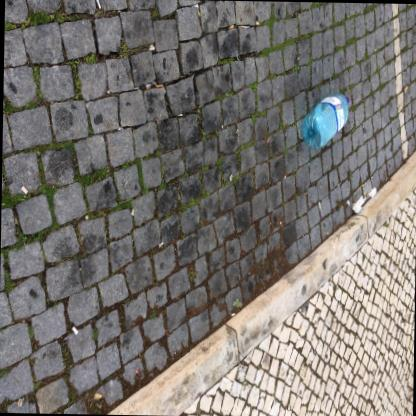Paper: (19, 184, 26, 195), (70, 326, 77, 334), (95, 0, 100, 8), (160, 83, 164, 92), (227, 24, 232, 29), (196, 8, 199, 16), (254, 20, 258, 25), (229, 312, 234, 316), (154, 84, 160, 87), (317, 201, 319, 210), (144, 83, 149, 86), (239, 25, 244, 28), (145, 86, 149, 89), (364, 192, 367, 196), (176, 113, 181, 115), (360, 184, 363, 187), (244, 25, 248, 27)
Plastic: (300, 92, 348, 149)
